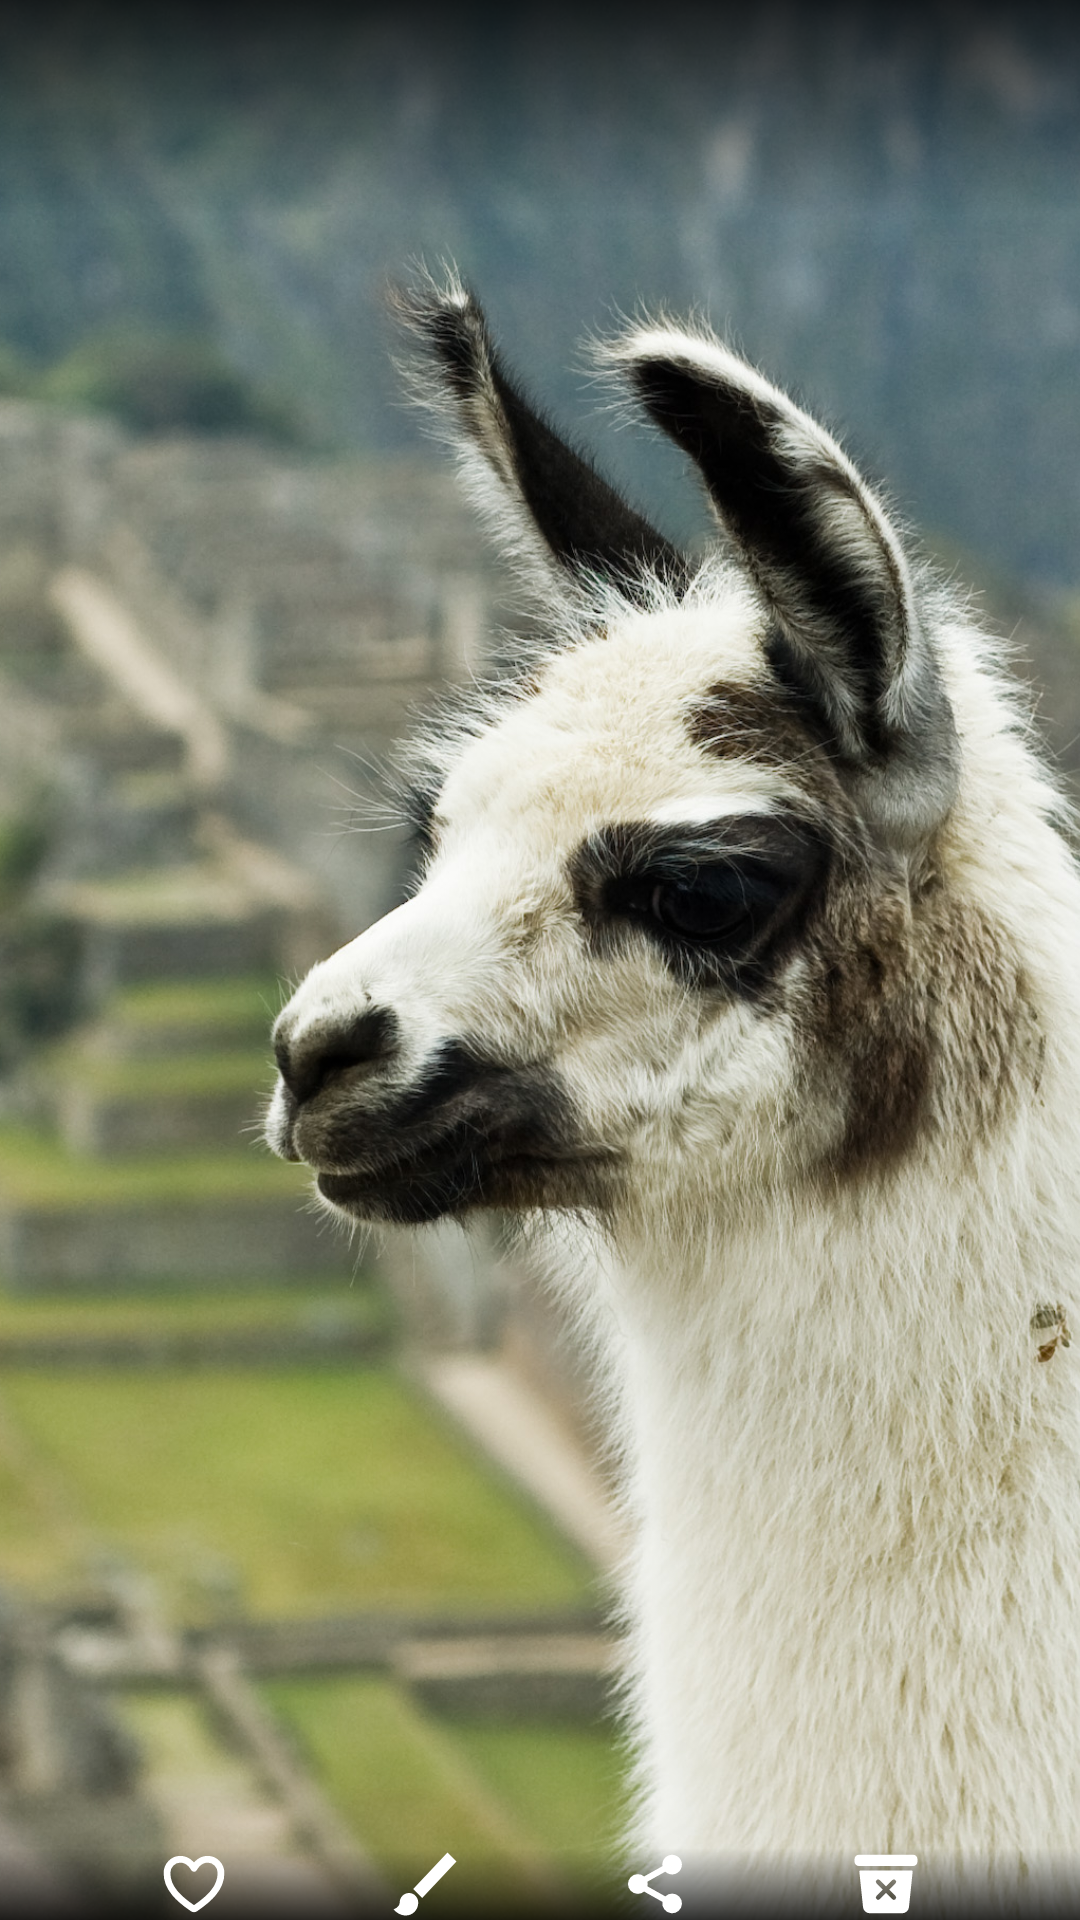

Icon click points for this 1080 × 1920 phone screenshot, format (x=x, y=y):
Delete: (x=886, y=1884)
Edit: (x=425, y=1884)
Share: (x=655, y=1884)
Toggle favorite: (x=194, y=1884)
